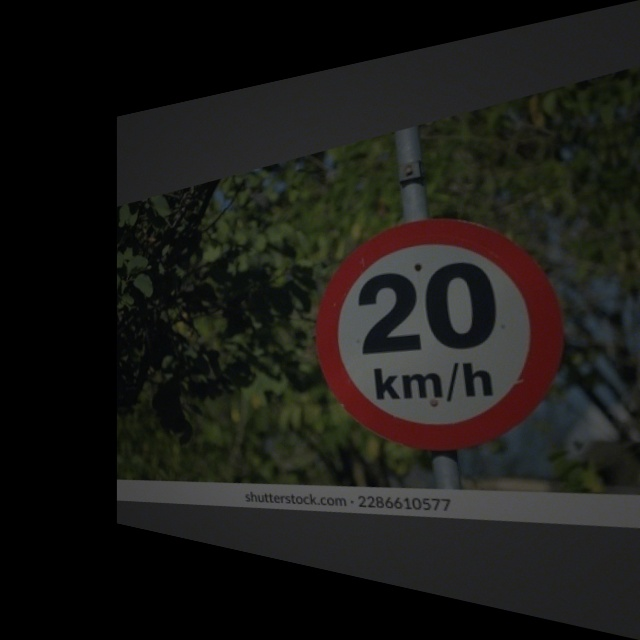Speed_Limit_20: (309, 195, 583, 480)
